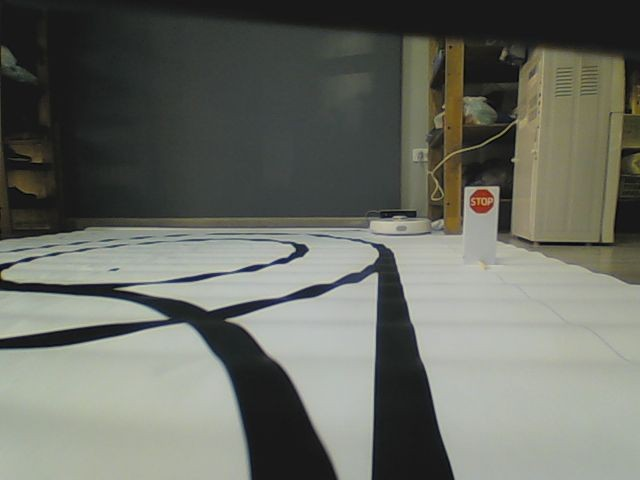Stop: (468, 189, 495, 213)
